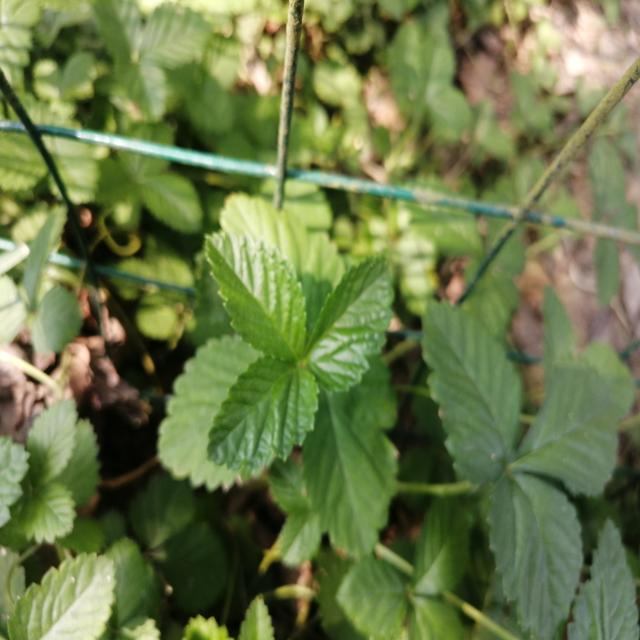Mock_strawberry: (422, 295, 623, 610)
